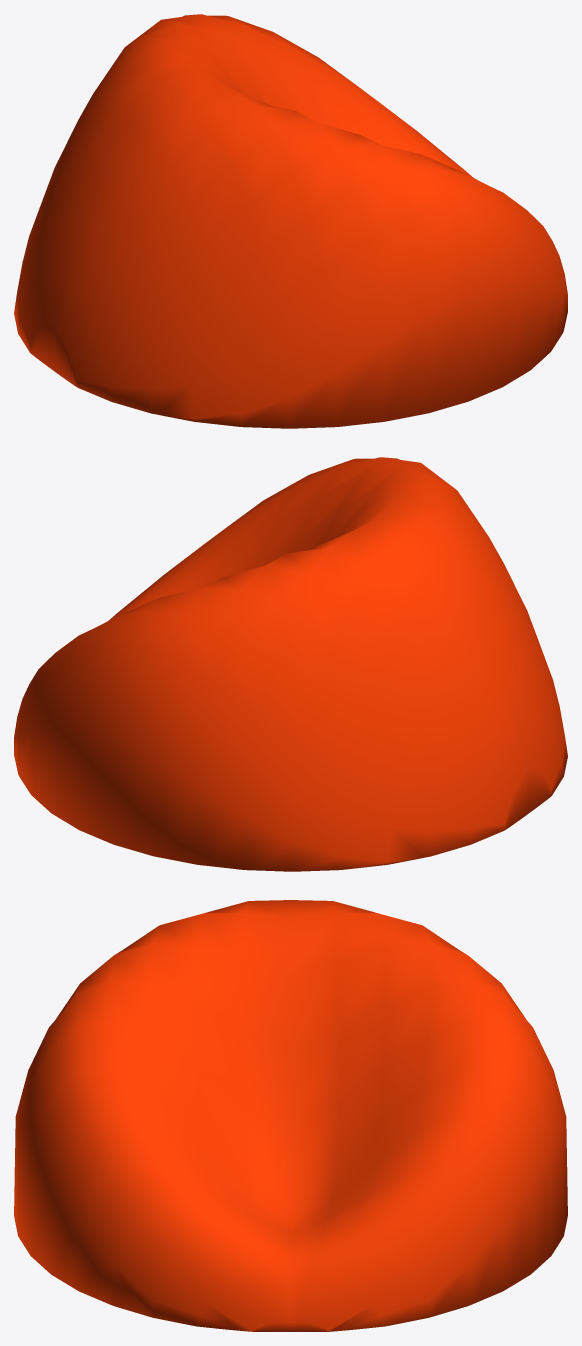
File: BeanBagChair2.fbx
3 renders of one model, top to bottom at view 1: azimuth 30°, elevation 25°; view 2: azimuth 150°, elevation 25°; view 3: azimuth 270°, elevation 25°, orthographic.
Visible parts, largest first — view 1: ske316_1; view 2: ske316_1; view 3: ske316_1.
Part boxes in pixels (box(x1,y1,x2,y2)): ske316_1: box(14, 14, 567, 428); ske316_1: box(14, 457, 567, 871); ske316_1: box(14, 900, 567, 1331).
Size of the model in its own units: 0.9569 by 0.501 by 0.9613.
